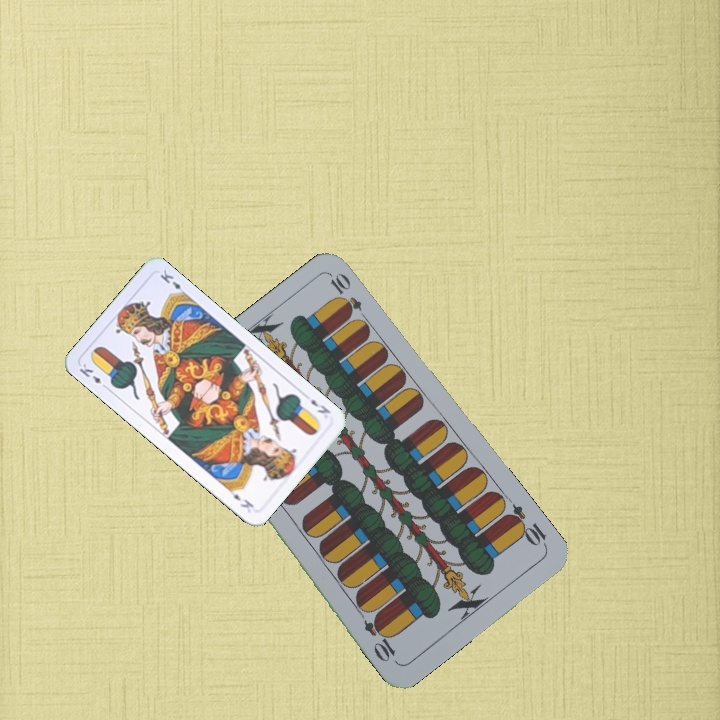E10: (501, 500, 550, 551)
EK: (75, 360, 111, 392), (307, 395, 333, 416)
